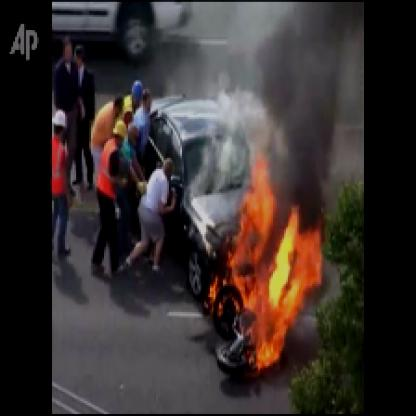Fire: (204, 148, 327, 380)
Smoke: (258, 2, 360, 213)
